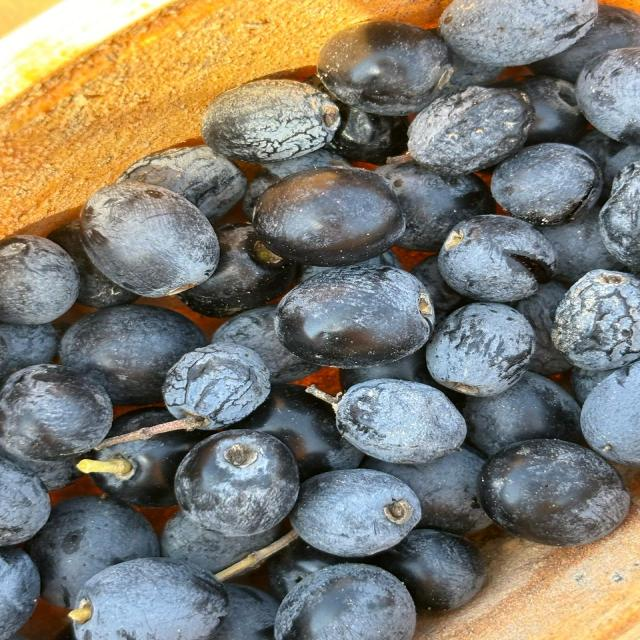Healthy: (478, 438, 630, 546), (275, 266, 435, 368), (253, 167, 405, 266), (60, 304, 207, 405), (69, 558, 228, 640), (317, 21, 453, 116), (0, 364, 113, 462), (275, 564, 415, 640)
